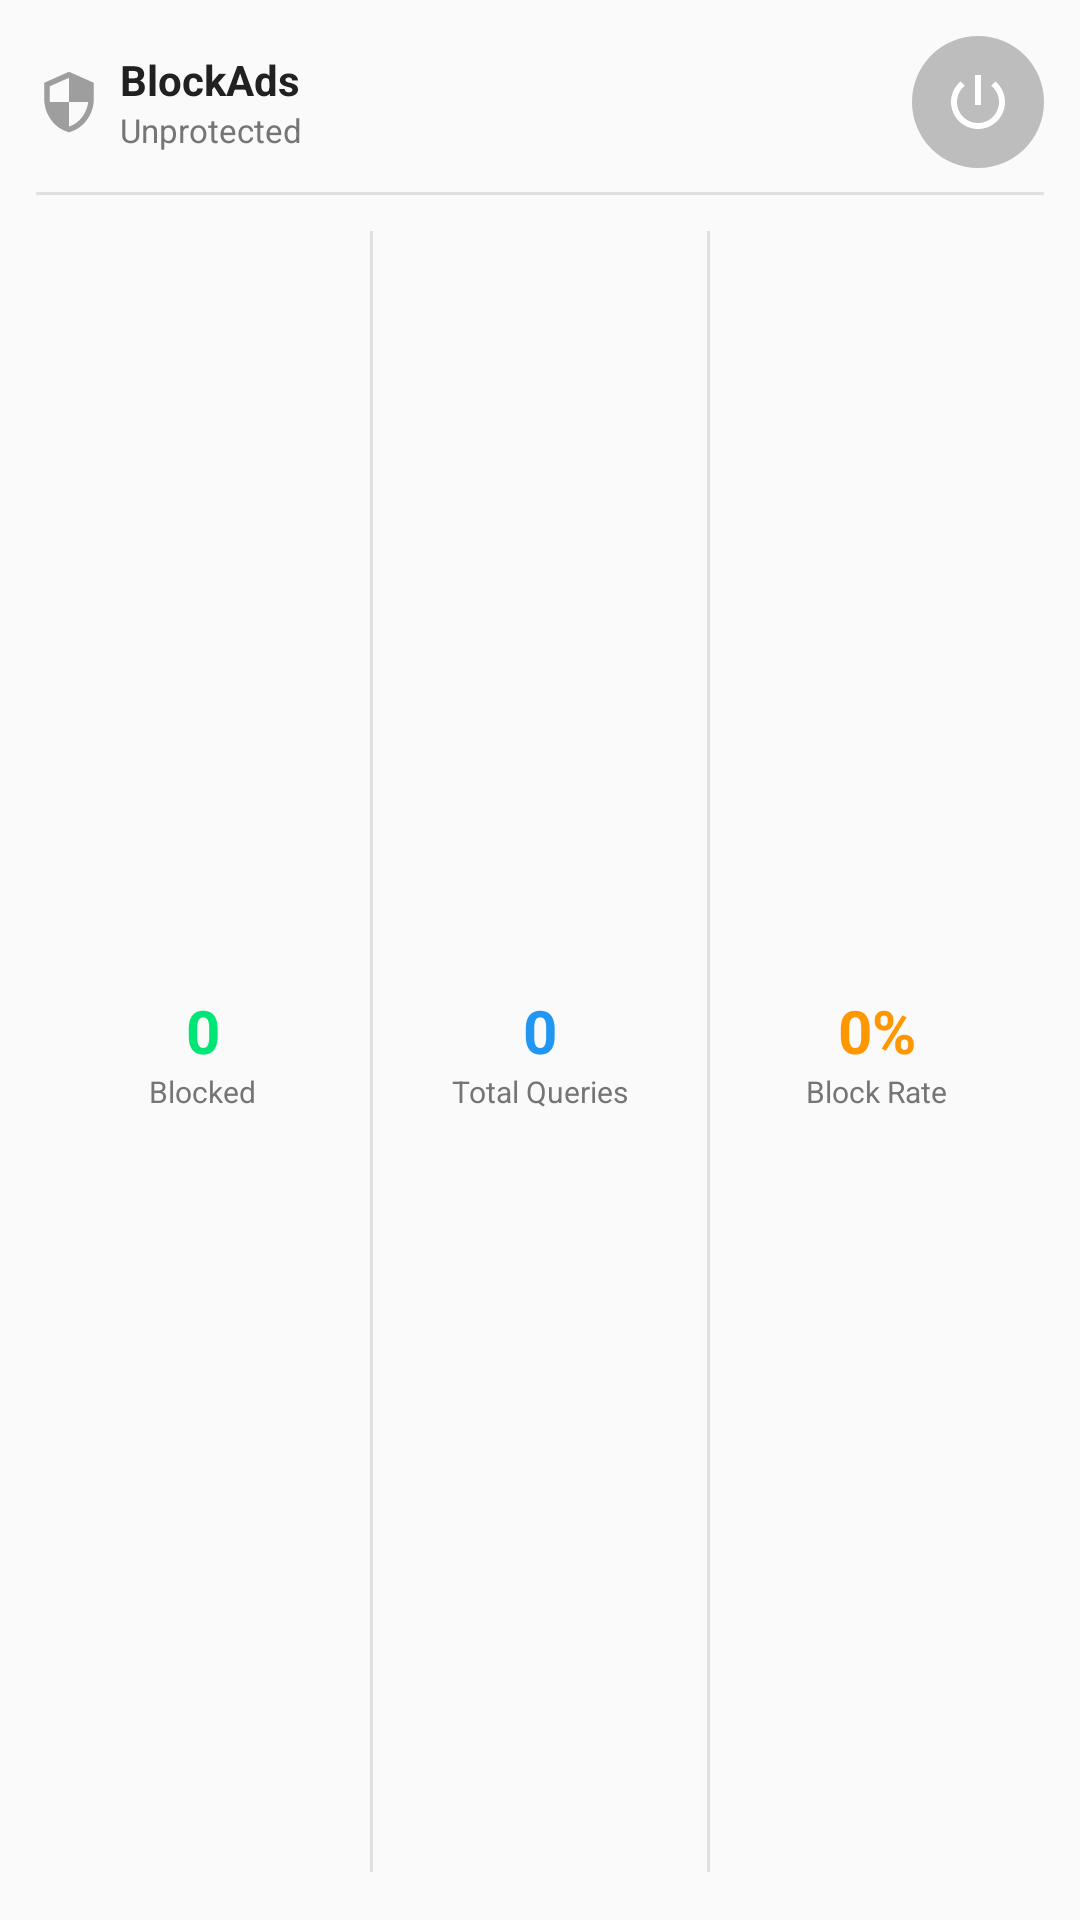

Locate icon controls on the screen. Image size 1080px x 1920px, boxes as (x1, y1, x2, y2).
Toggle ad blocking: (912, 36, 1044, 168)
